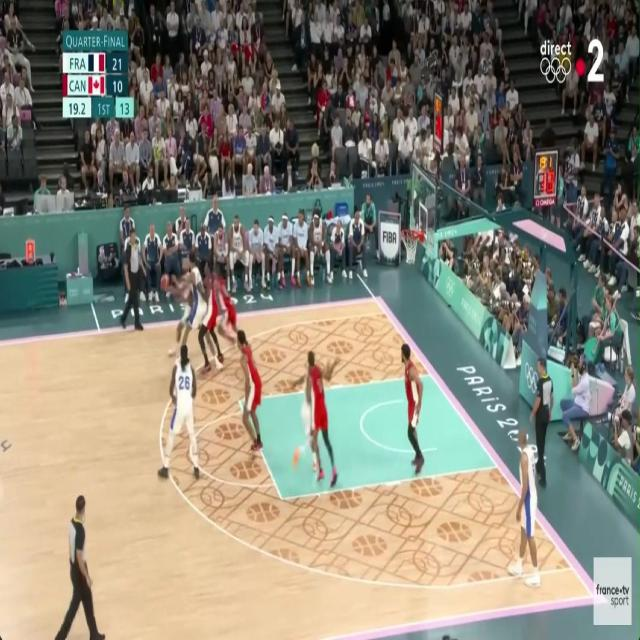ball_handler: (160, 257, 192, 356)
